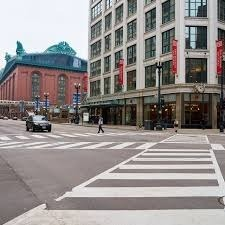crosswalk: (0, 133, 224, 224), (0, 132, 176, 141), (0, 141, 156, 149), (211, 144, 224, 150)
